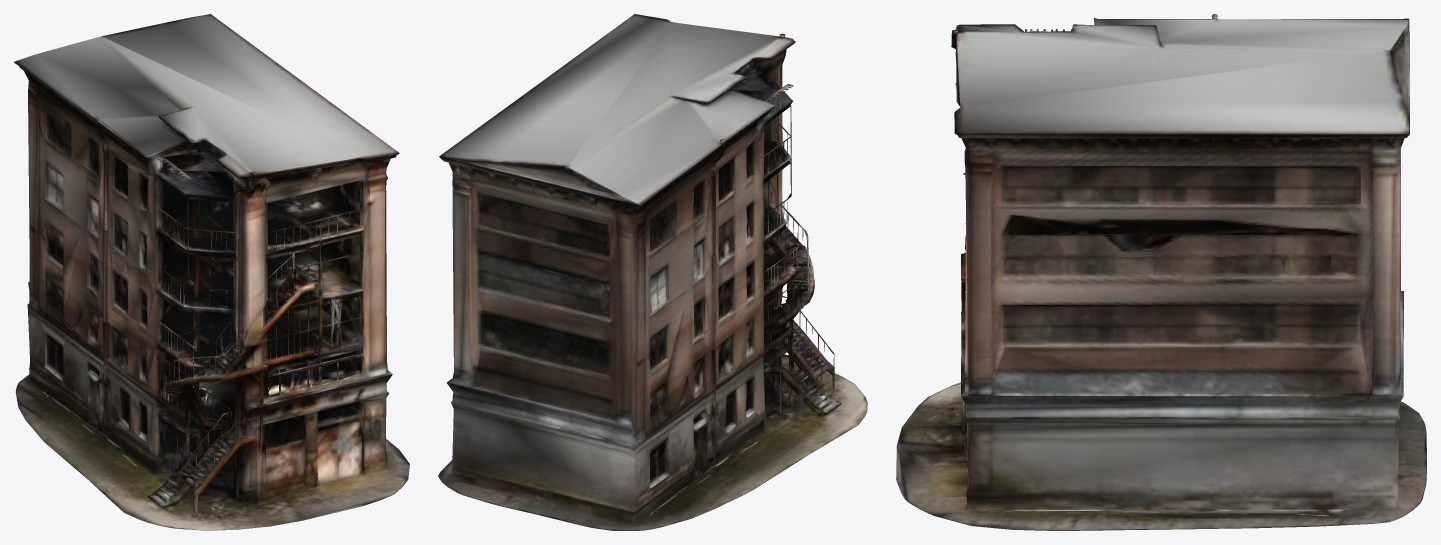
Rendered from ruin_b.glb.
3 views of the same model, side by side, from view 1: azimuth 30°, elevation 25°; view 2: azimuth 150°, elevation 25°; view 3: azimuth 270°, elevation 25° (orthographic). The views are drawn at different scales.
Visible parts, largest first — view 1: material; view 2: material; view 3: material.
Part boxes in pixels (x1,y1,x2,y2): material: [14, 14, 409, 530]; material: [438, 14, 867, 530]; material: [896, 14, 1426, 530].
Bounding box in the file's own units: 0.6226 × 0.7318 × 0.8772.
Materials: 1 (1 with a texture image).
